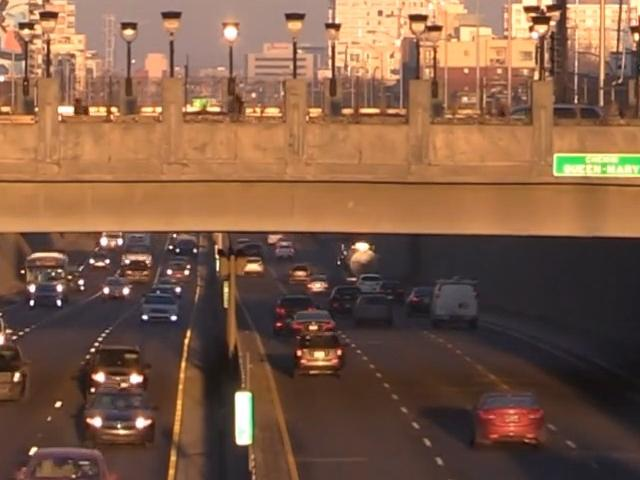bus: (22, 239, 68, 311)
car: (467, 388, 549, 450), (84, 385, 161, 449), (7, 443, 112, 480), (84, 341, 152, 395), (286, 331, 348, 379), (272, 290, 315, 334), (0, 343, 32, 402), (133, 292, 185, 321), (289, 308, 338, 338), (352, 297, 402, 325), (329, 281, 361, 314), (102, 276, 132, 301)
van: (425, 275, 486, 322)
